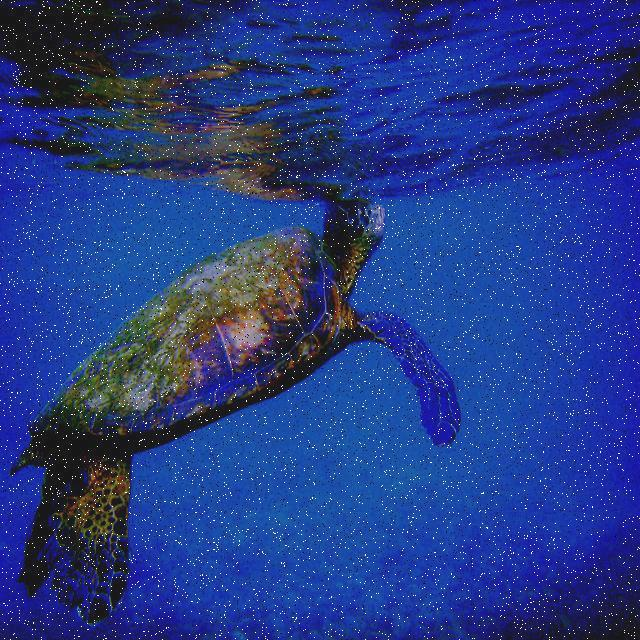tortoise: (19, 187, 464, 628)
